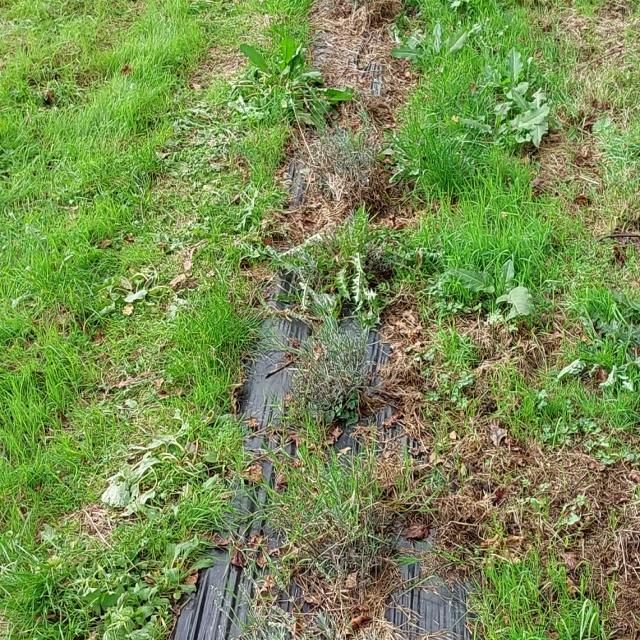organic waste: (236, 20, 349, 119), (463, 88, 576, 172), (102, 432, 211, 517), (444, 257, 558, 335), (399, 0, 482, 85), (457, 44, 548, 109), (100, 242, 187, 304)
